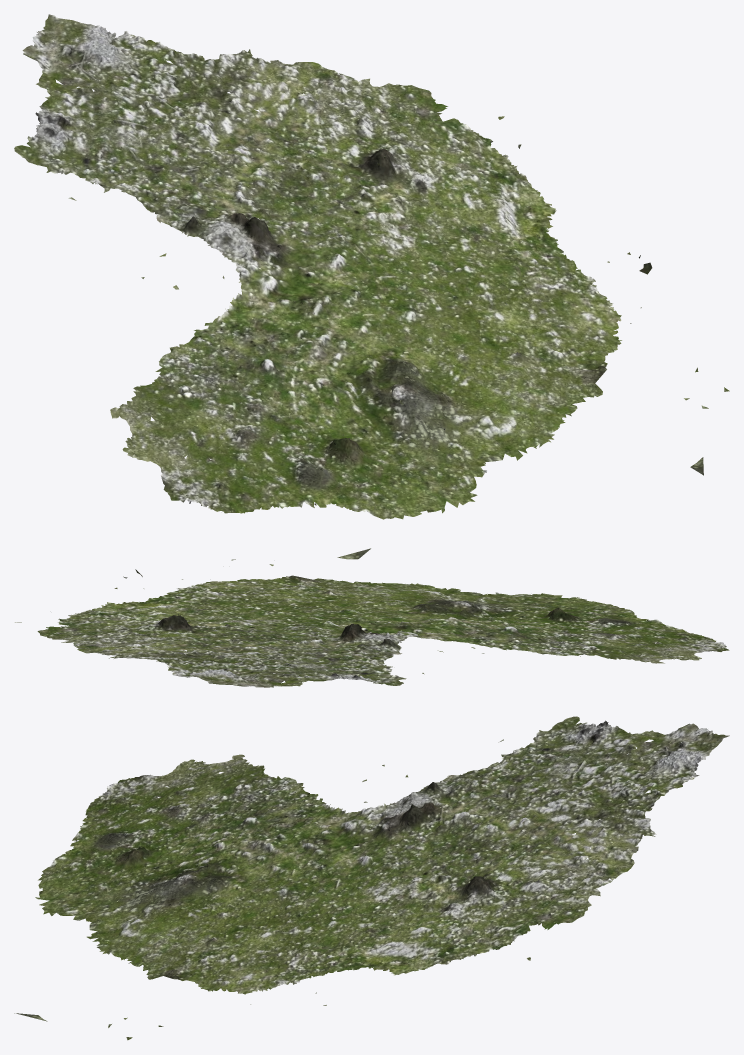
3 renders of one model, top to bottom at view 1: azimuth 30°, elevation 25°; view 2: azimuth 150°, elevation 25°; view 3: azimuth 270°, elevation 25°, orthographic. The views are drawn at different scales.
Size of the model in its own units: 39.45 by 13.7 by 48.9.
Materials: 1 (1 with a texture image).
